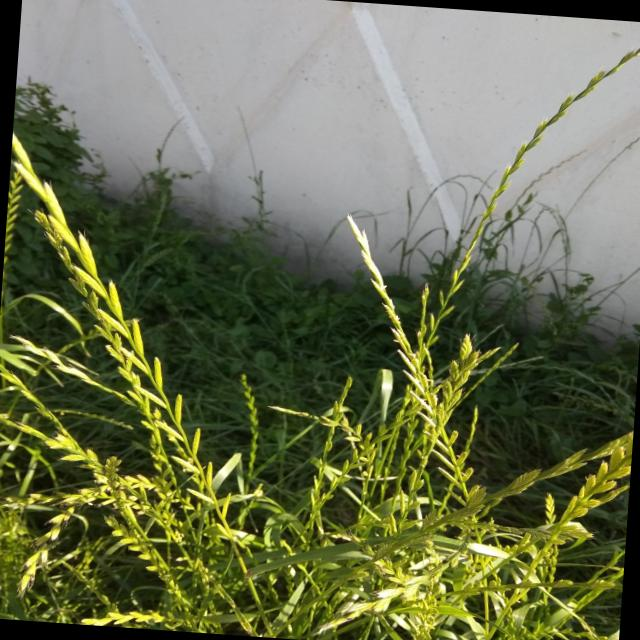Lolium: (0, 134, 305, 637), (374, 32, 640, 584), (322, 212, 538, 582), (343, 410, 633, 601), (0, 359, 206, 609), (68, 279, 228, 559), (479, 423, 631, 640), (423, 419, 633, 541), (95, 479, 206, 609), (303, 372, 353, 550), (224, 372, 266, 536), (12, 506, 84, 593), (24, 400, 136, 430)
